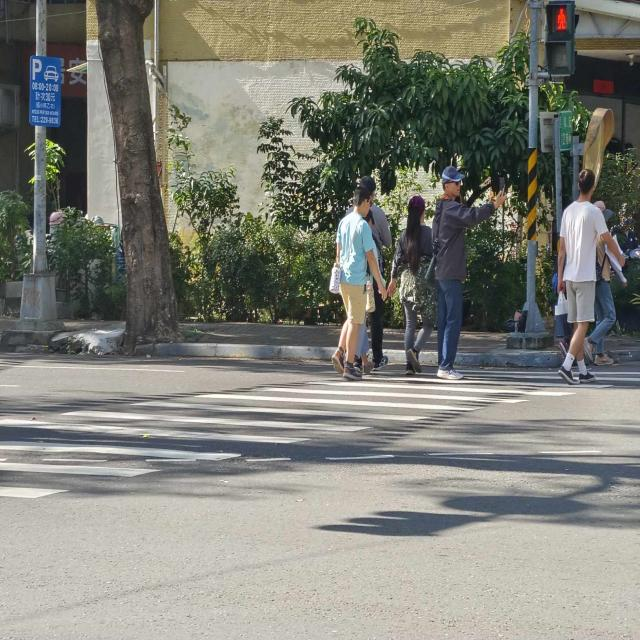person: (432, 167, 506, 380), (558, 168, 625, 384), (332, 185, 386, 380), (389, 195, 436, 375)
zebra crossing: (2, 367, 638, 501)
